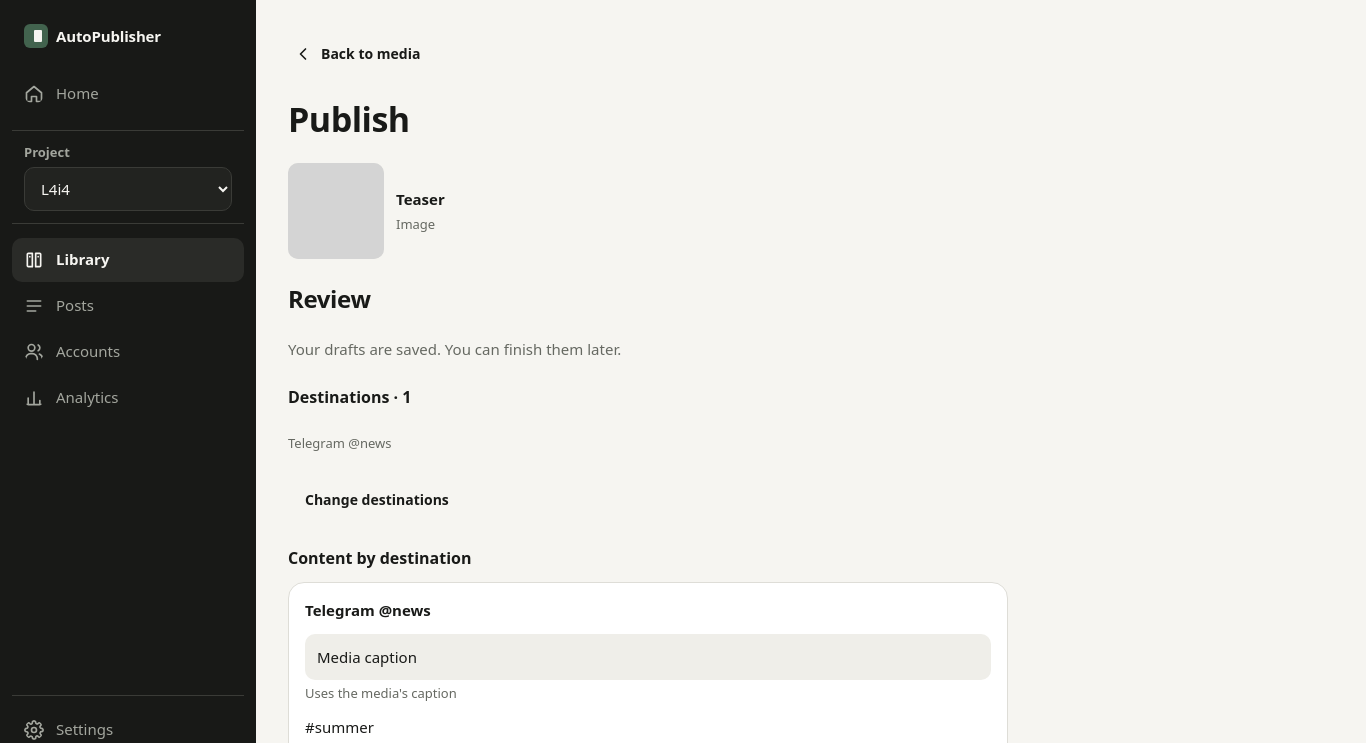
Test case: a Draft outside the set can be added to this task without any write; other active Posts still block
This screenshot has width=1366, height=743.
Expected: the heading "Publish" is shown, [288,96,410,142]
Expected: the heading "Review" is shown, [288,282,371,315]
Click the button "Change destinations". click: point(377, 500)
box: [288,478,466,522]
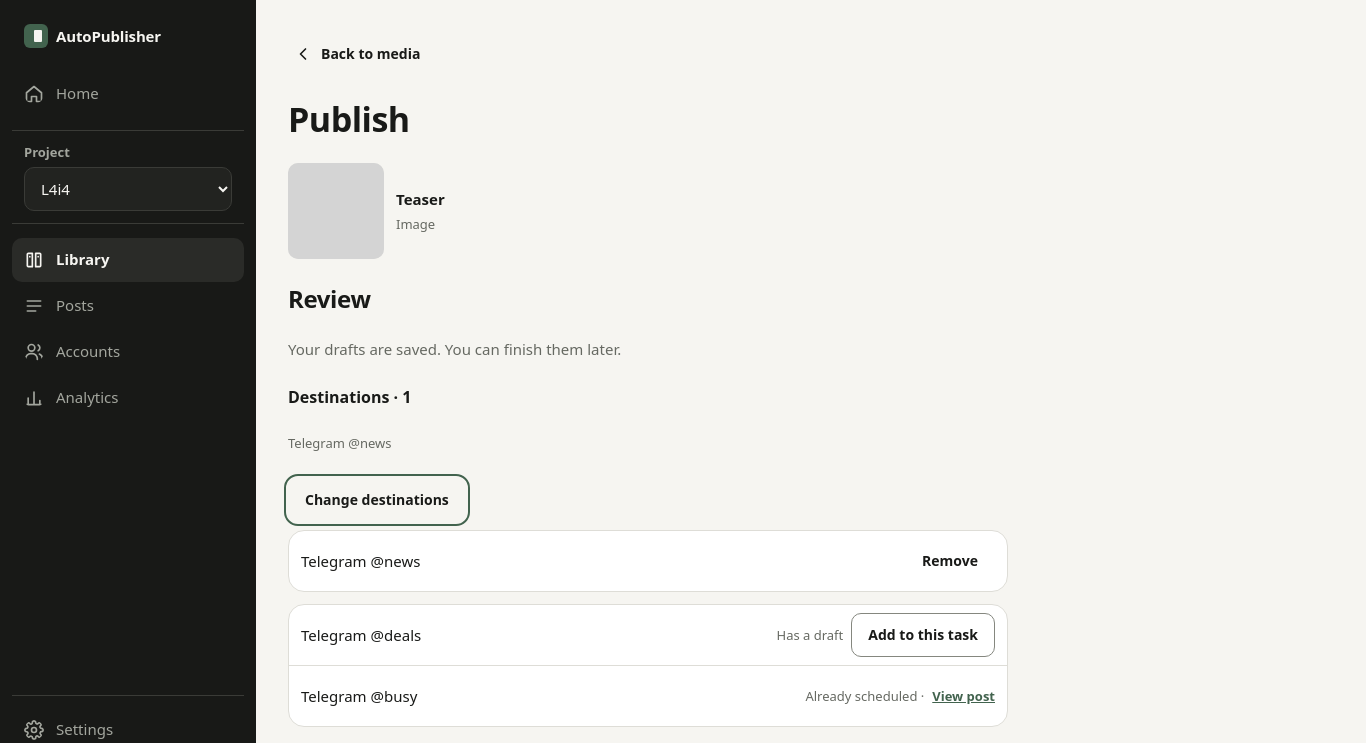
Result: the text "Has a draft Add to this task" is shown at [776,613,995,657]
Click the button with aria-label "Add the draft of Telegram @deals to this task". click: point(923, 635)
box: [851,613,995,657]
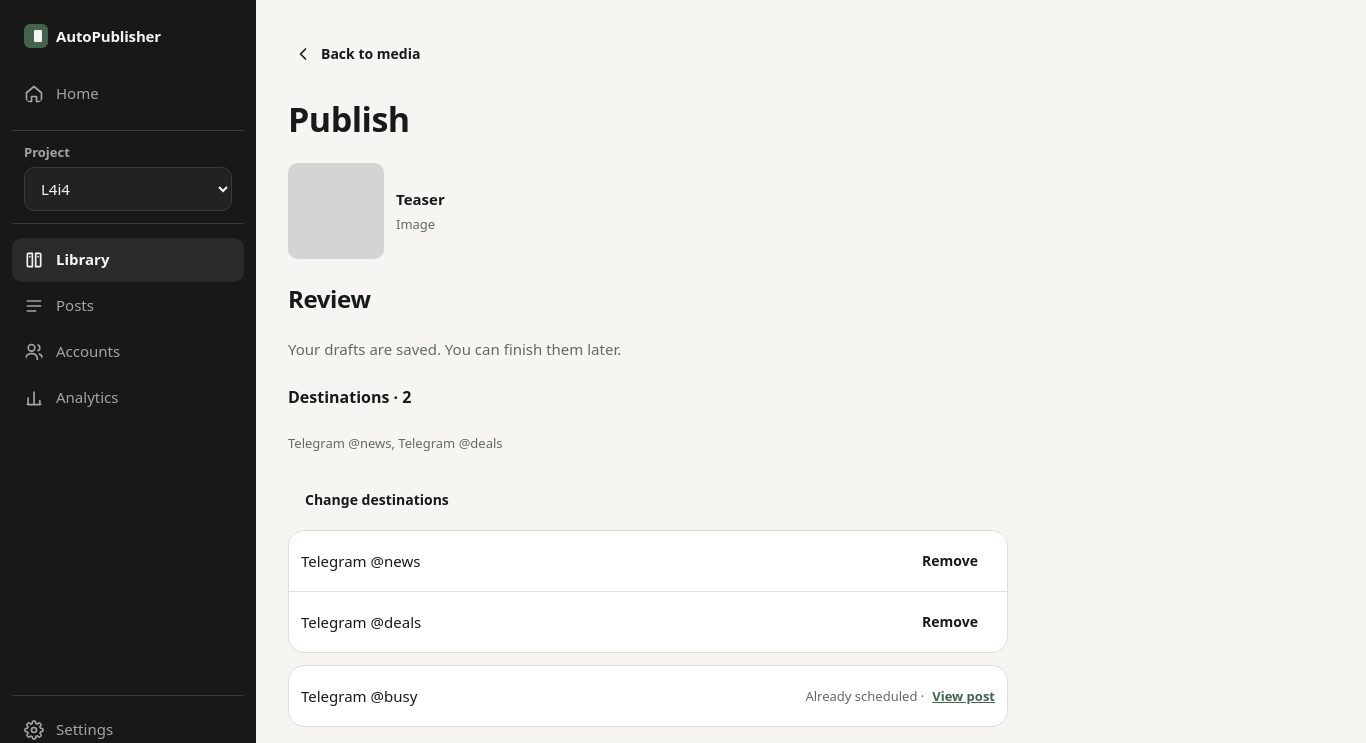
Result: the heading "Destinations · 2" is shown at [288,386,412,408]
